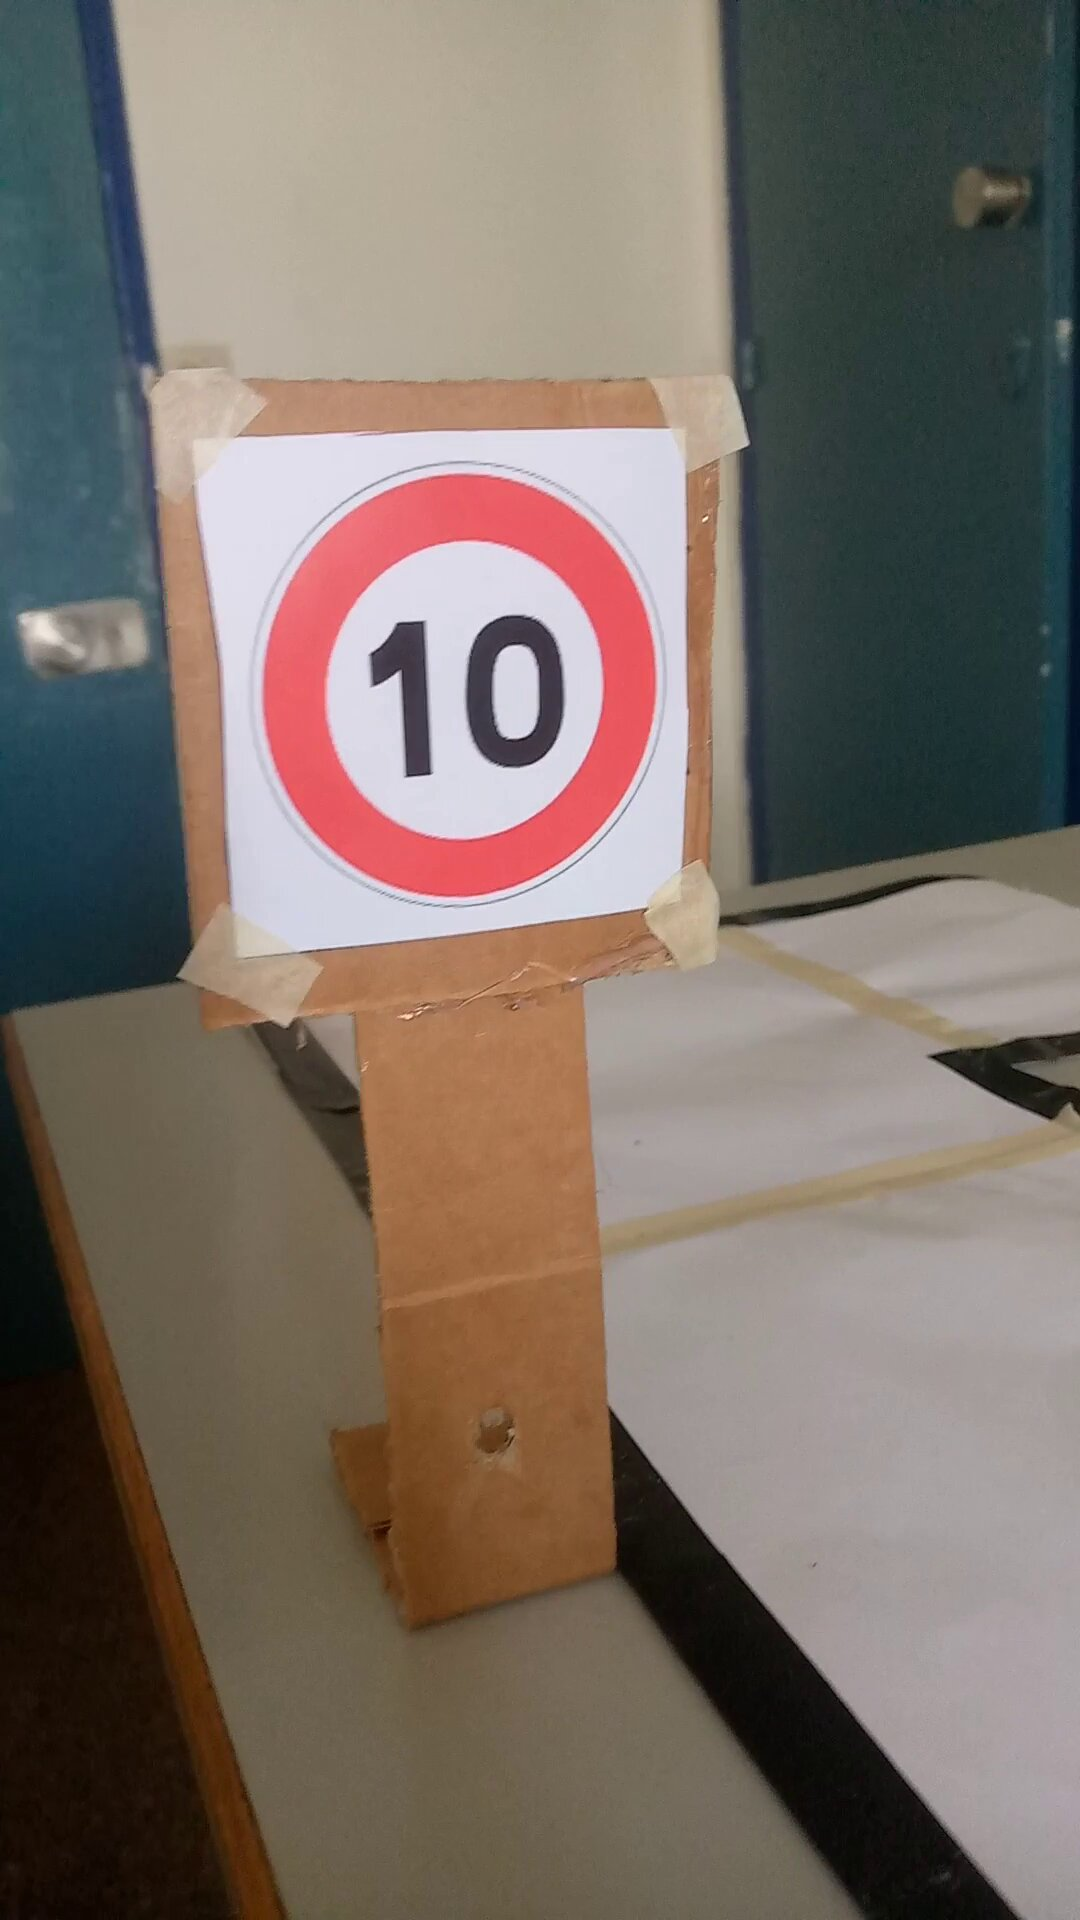panel011: (187, 434, 698, 967)
